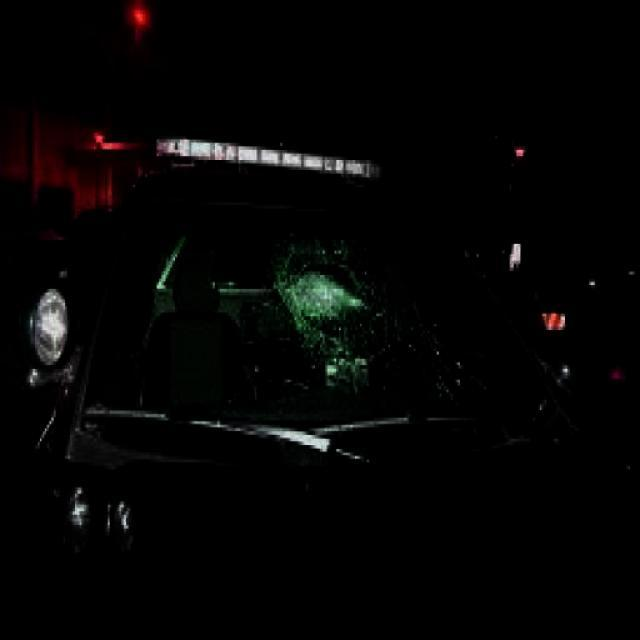car damage: (264, 232, 416, 379)
